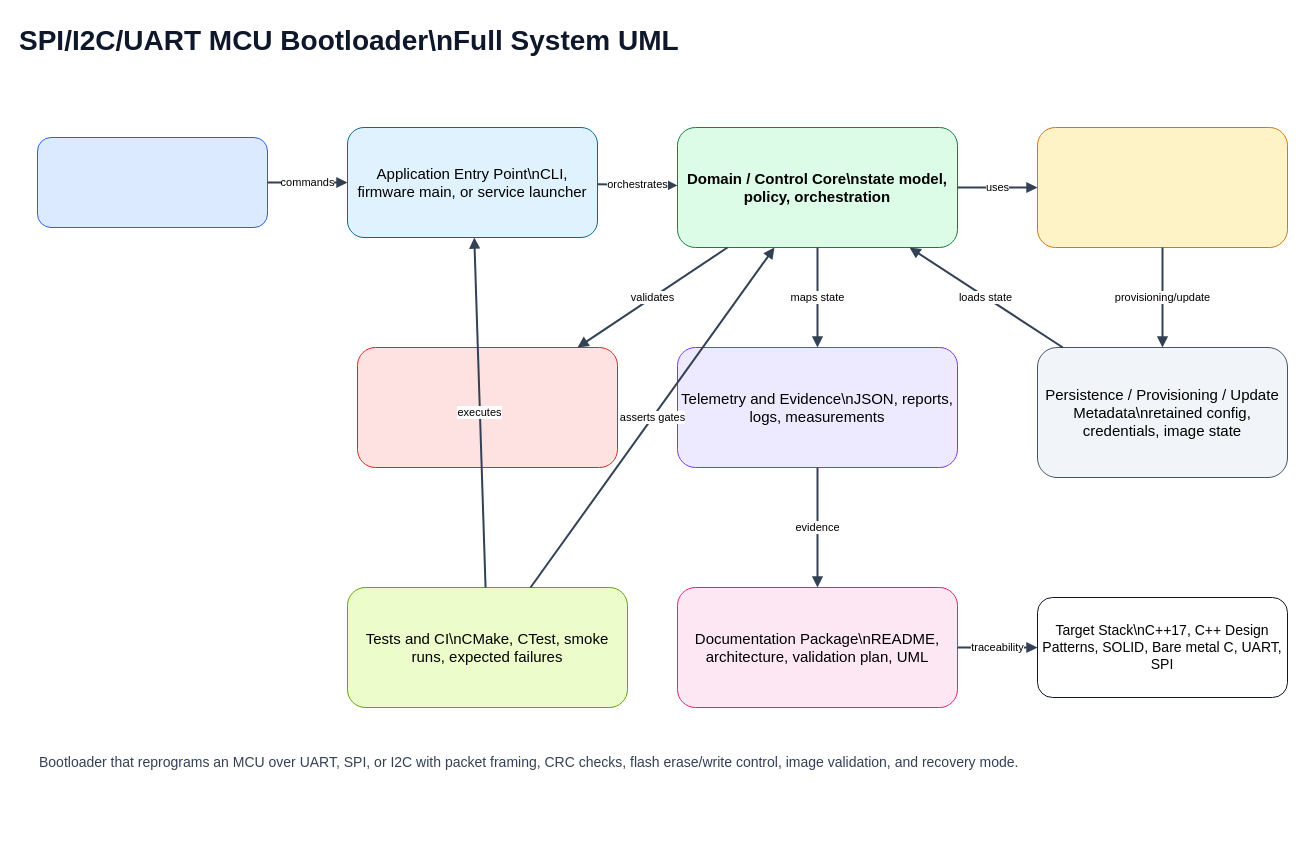
The diagram is 1305 pixels wide and 844 high, and some of its shapes have lost their labels. Here are the shapes that lost their labels. From the top down, the centre of each, then its label:
At (x=152, y=182): "Operator / Cloud / Test Harness".
At (x=1162, y=187): "Hardware and Simulator Adapters\nsensors, buses, files, transports".
At (x=487, y=407): "Safety / Readiness Gates\nconfig, battery, timing, OTA, bounds".
